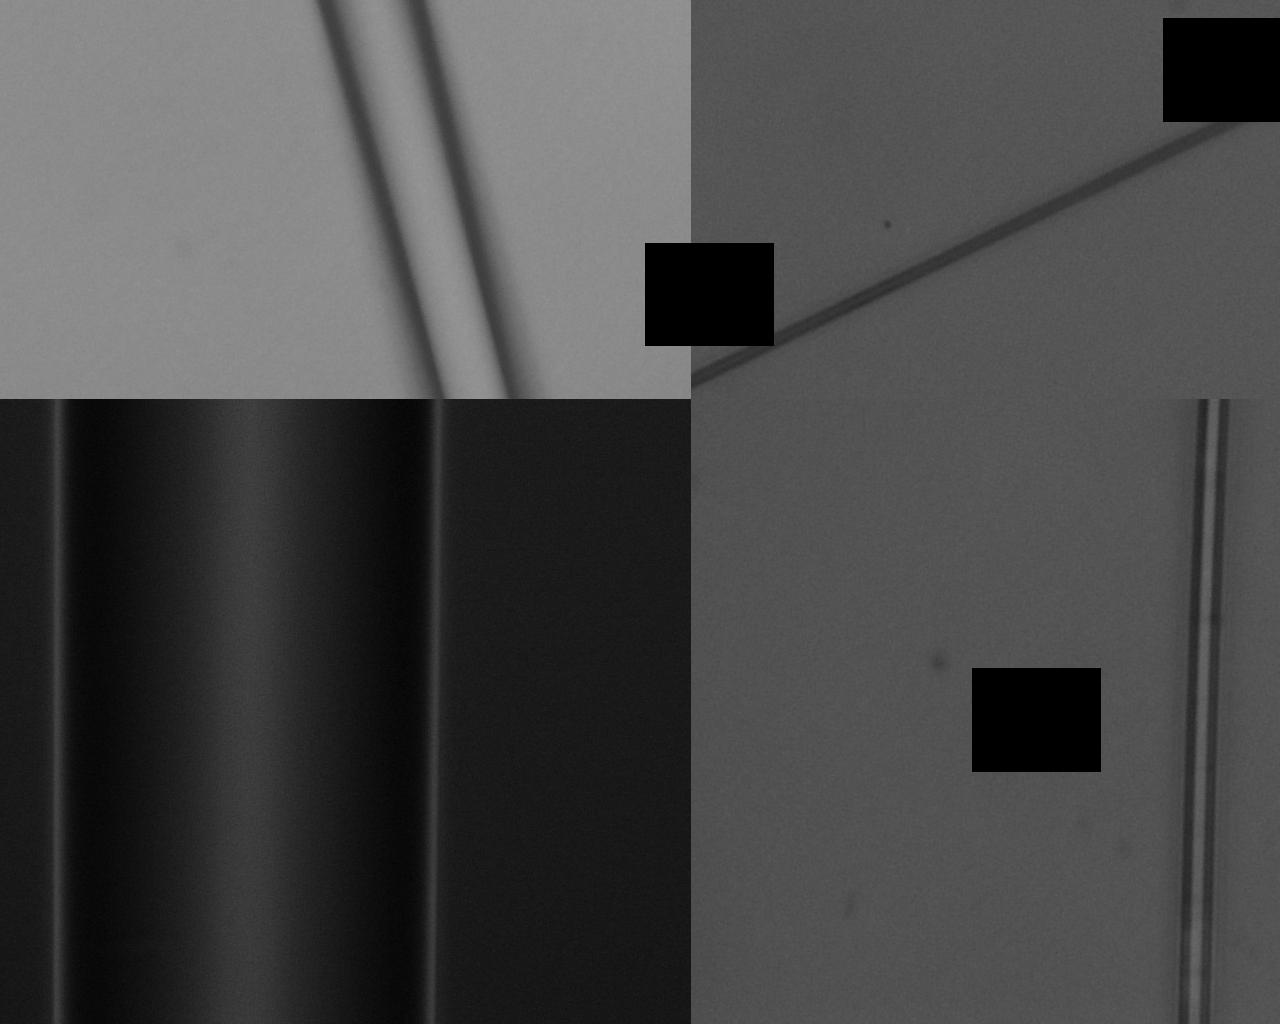fiber: (0, 21, 1280, 932)
